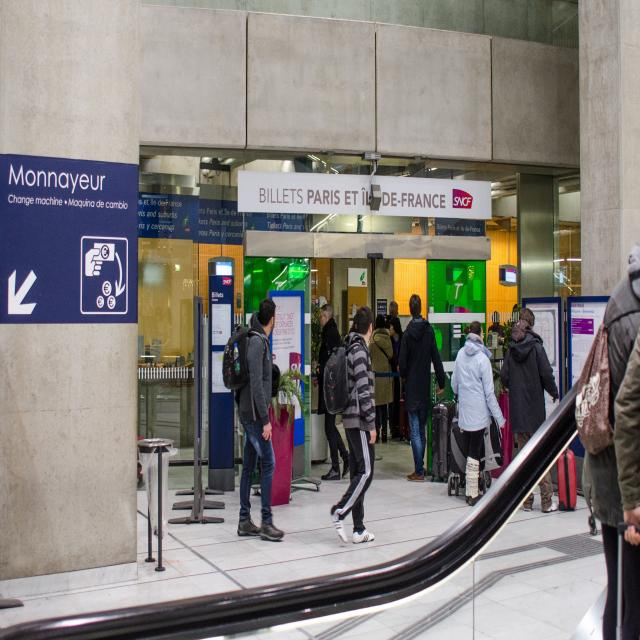body: (571, 242, 640, 640), (322, 305, 378, 547), (500, 308, 561, 515), (237, 300, 283, 544), (450, 321, 506, 508), (396, 293, 446, 486), (616, 327, 640, 640), (315, 304, 350, 481), (368, 314, 392, 443), (389, 318, 404, 373), (488, 311, 506, 338), (384, 300, 400, 330), (507, 302, 522, 327), (346, 311, 359, 334)
